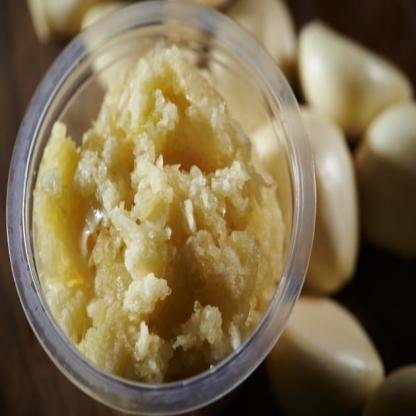garlic: (264, 271, 377, 415), (290, 91, 361, 298), (298, 21, 416, 129), (346, 111, 416, 251)
